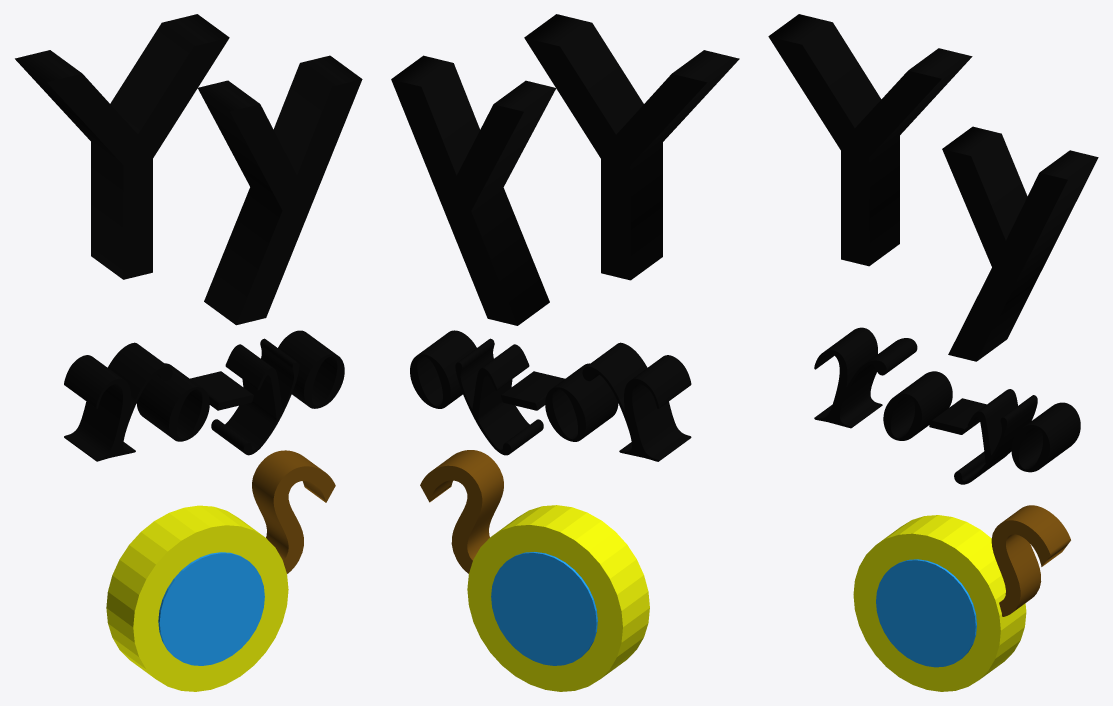
The model's file is Letter_Y.glb.
3 views of the same model, side by side, from view 1: azimuth 30°, elevation 25°; view 2: azimuth 150°, elevation 25°; view 3: azimuth 330°, elevation 25° (orthographic). The views are drawn at different scales.
Parts seen in each view (by area): view 1: Text, Text.002, Cylinder, Cylinder.001, Text.001; view 2: Text, Text.002, Cylinder, Cylinder.001, Text.001; view 3: Text, Text.002, Cylinder, Cylinder.001, Text.001.
Boxes of the visible parts, left/top/right/bottom form: Text: left=15, top=14, right=362, bottom=325; Text.002: left=64, top=330, right=344, bottom=461; Cylinder: left=106, top=505, right=288, bottom=691; Cylinder.001: left=158, top=552, right=264, bottom=665; Text.001: left=252, top=450, right=335, bottom=573; Text: left=391, top=14, right=739, bottom=325; Text.002: left=410, top=330, right=691, bottom=461; Cylinder: left=467, top=505, right=649, bottom=691; Cylinder.001: left=491, top=552, right=597, bottom=665; Text.001: left=420, top=450, right=503, bottom=573; Text: left=768, top=14, right=1098, bottom=361; Text.002: left=814, top=327, right=1080, bottom=484; Cylinder: left=853, top=515, right=1026, bottom=691; Cylinder.001: left=876, top=559, right=976, bottom=667; Text.001: left=991, top=505, right=1070, bottom=616.
Size of the model in its own units: 0.6777 by 1.33 by 0.122.
